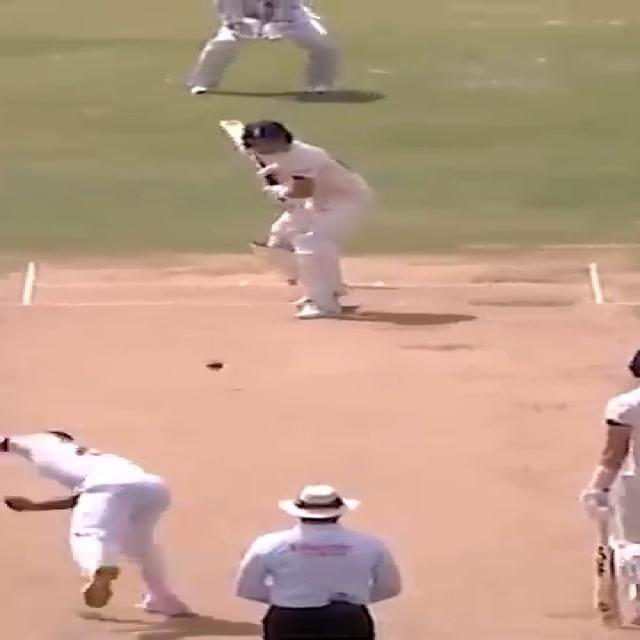Cricket ball: (202, 358, 228, 372)
